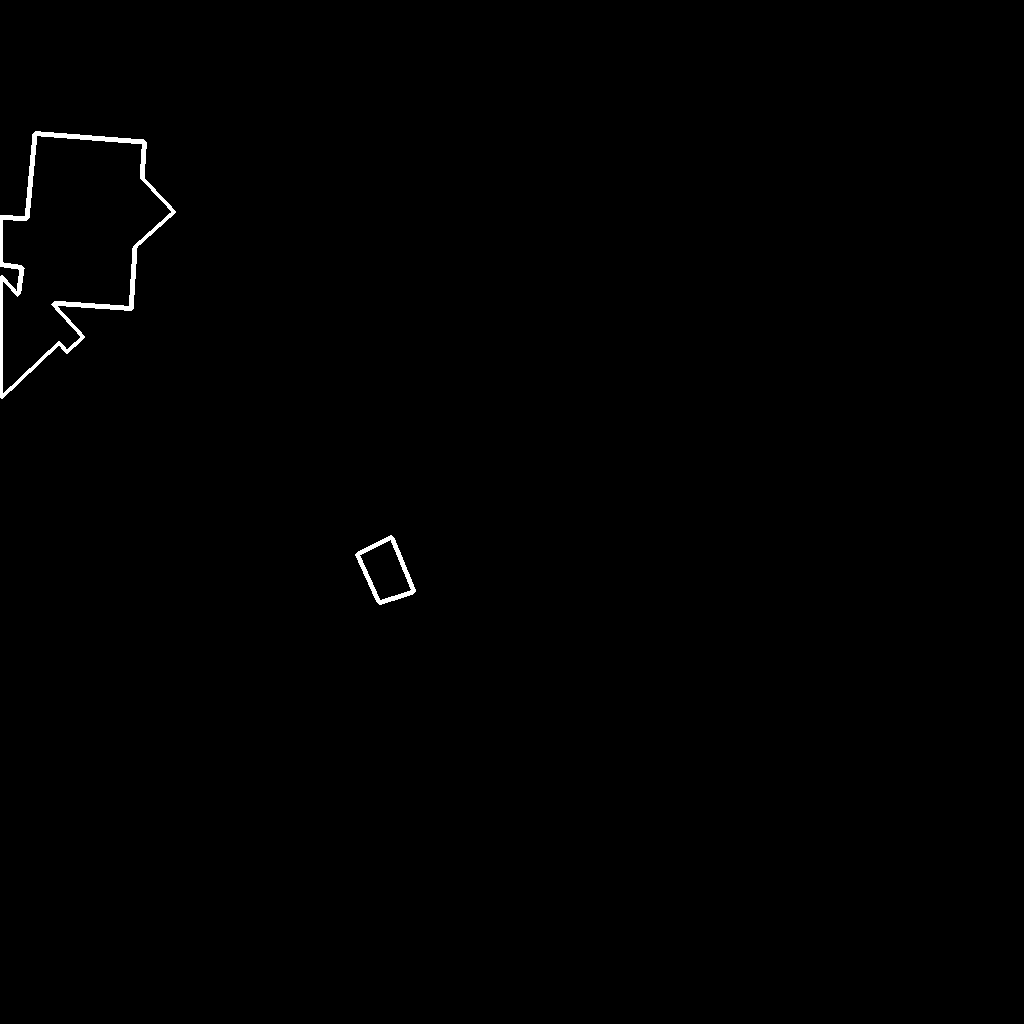building: (0, 133, 175, 398), (357, 537, 415, 604)
